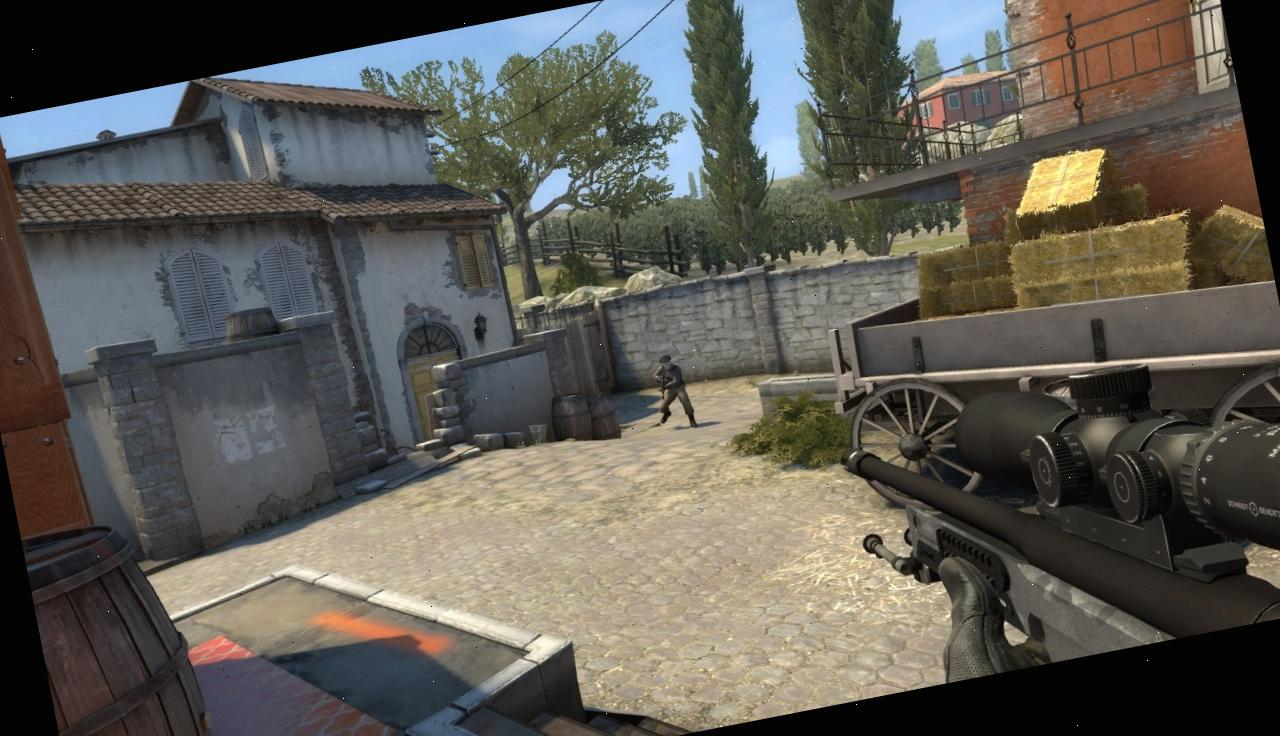sniper: (819, 322, 1280, 697)
tt: (650, 352, 696, 434)
tthead: (658, 354, 672, 370)
